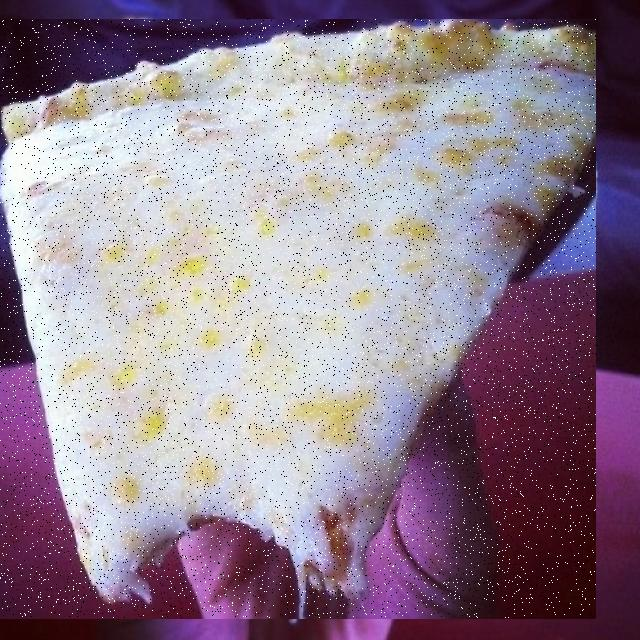Pizza: (0, 20, 596, 618)
